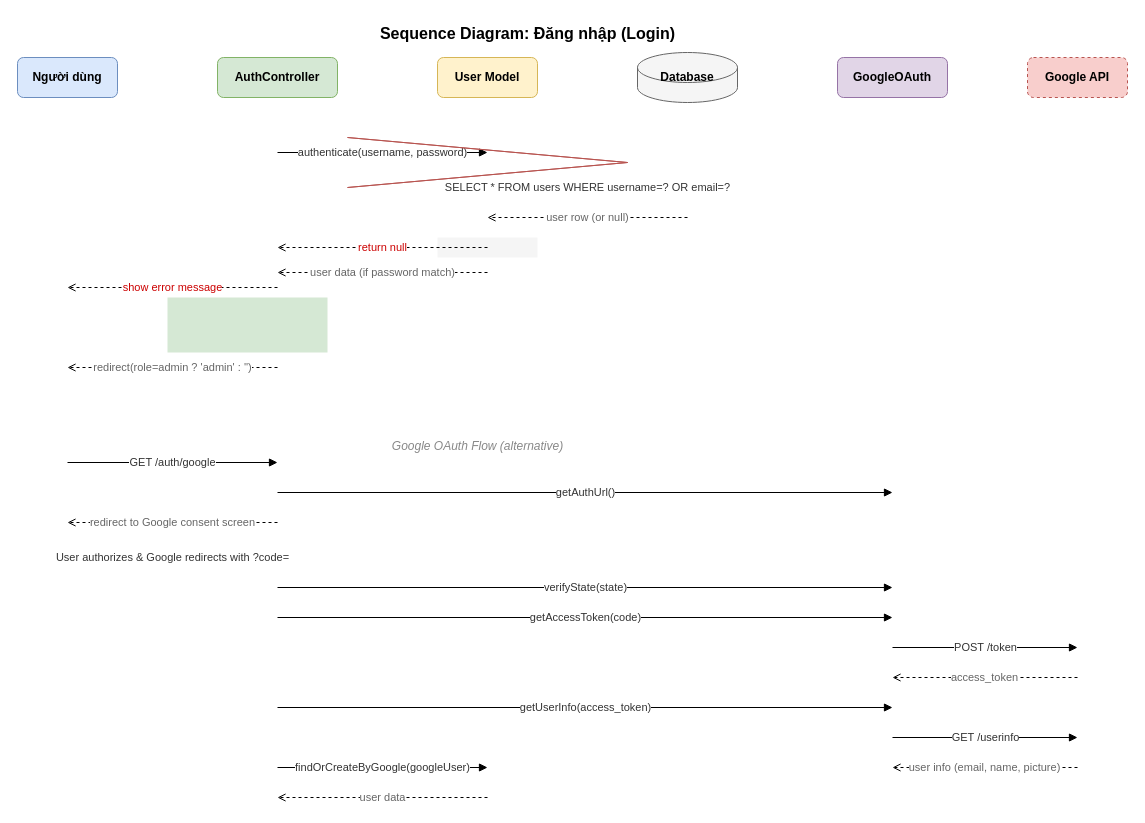
Image size: 1145x823. Some labels were removed from this diagram. The box of each missing label's shape, as (x1, y1, x2, y2) in pixels:
alt [password wrong]: (346, 136, 628, 188)
password_verify(): (437, 237, 537, 257)
session_regenerate_id() Set SESSION vars Check membership expiry: (167, 297, 327, 352)
